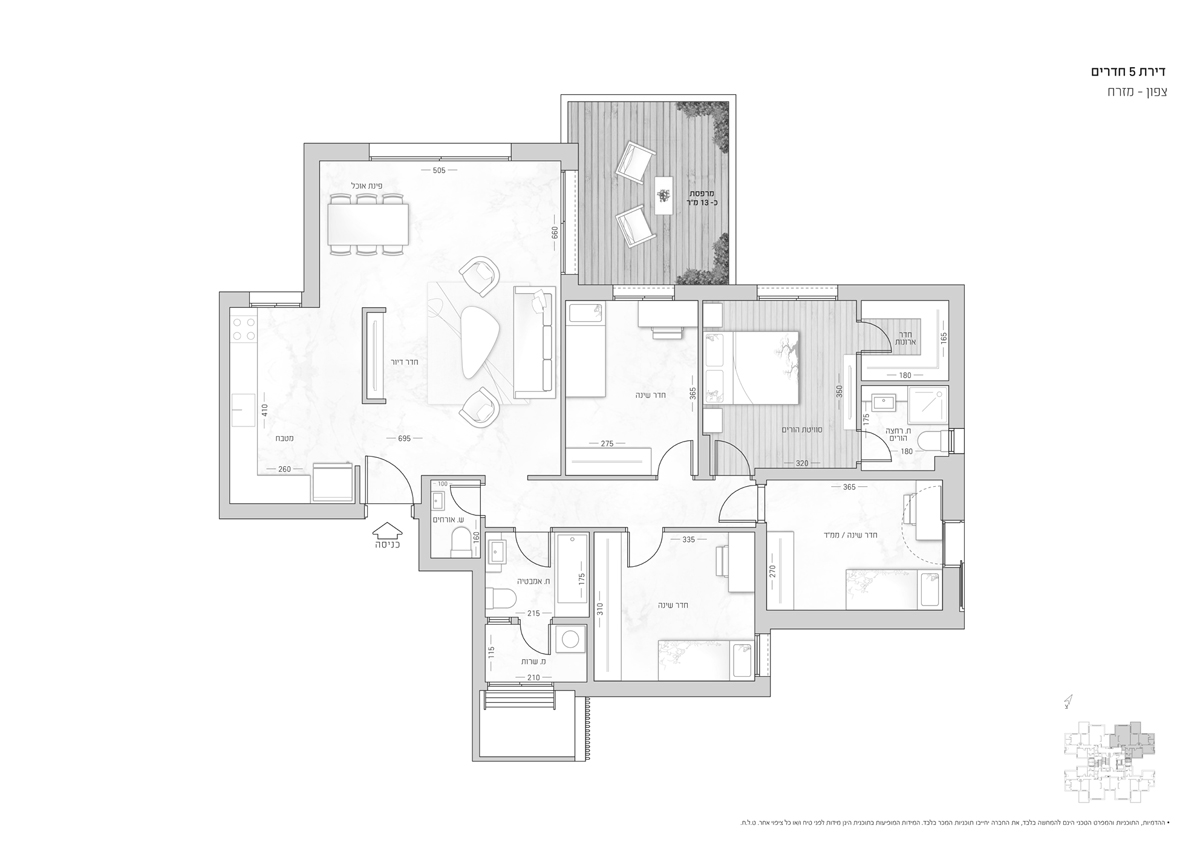door: (363, 452, 415, 501), (712, 482, 756, 526), (655, 437, 696, 476), (712, 435, 753, 474), (515, 532, 554, 568), (624, 532, 663, 568), (516, 622, 555, 658), (863, 427, 894, 466), (448, 481, 481, 517)
